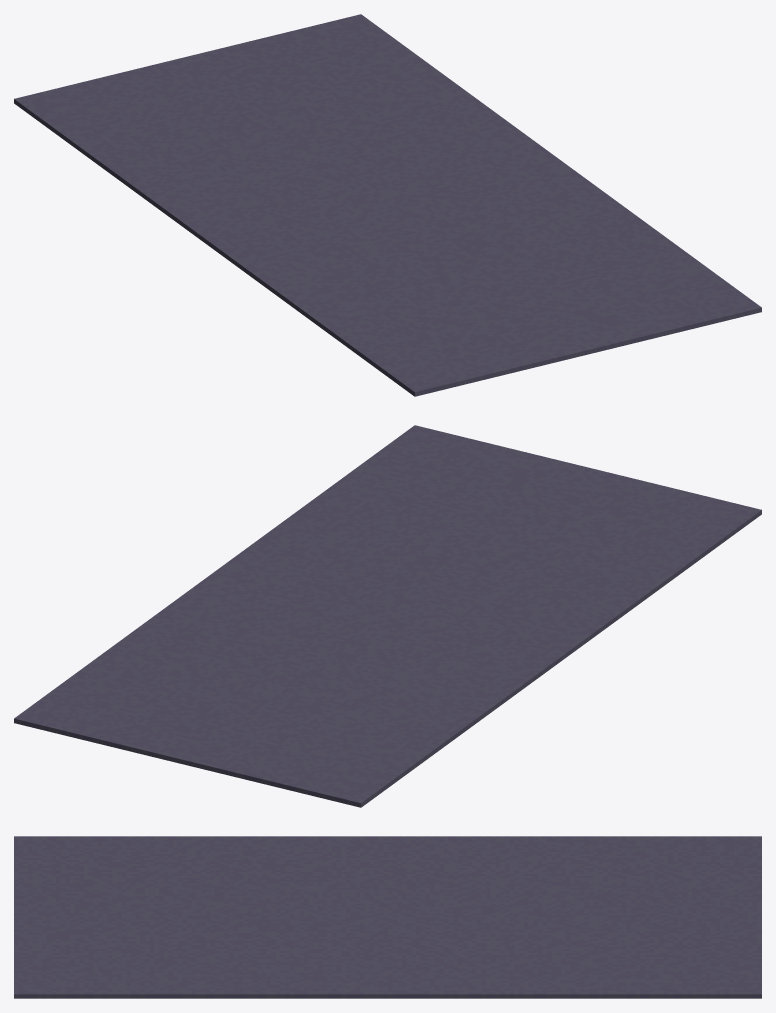
The model's file is floor_01_XL.dae.
3 renders of one model, top to bottom at view 1: azimuth 30°, elevation 25°; view 2: azimuth 150°, elevation 25°; view 3: azimuth 270°, elevation 25°, orthographic. The views are drawn at different scales.
Visible parts, largest first — view 1: Untitled; view 2: Untitled; view 3: Untitled.
Part boxes in pixels (box(x1,y1,x2,y2)): Untitled: box(14, 14, 761, 396); Untitled: box(14, 425, 761, 807); Untitled: box(14, 836, 761, 998).
Size of the model in its own units: 2.4 by 4.8 by 0.03.
1 material, 1 textured.
